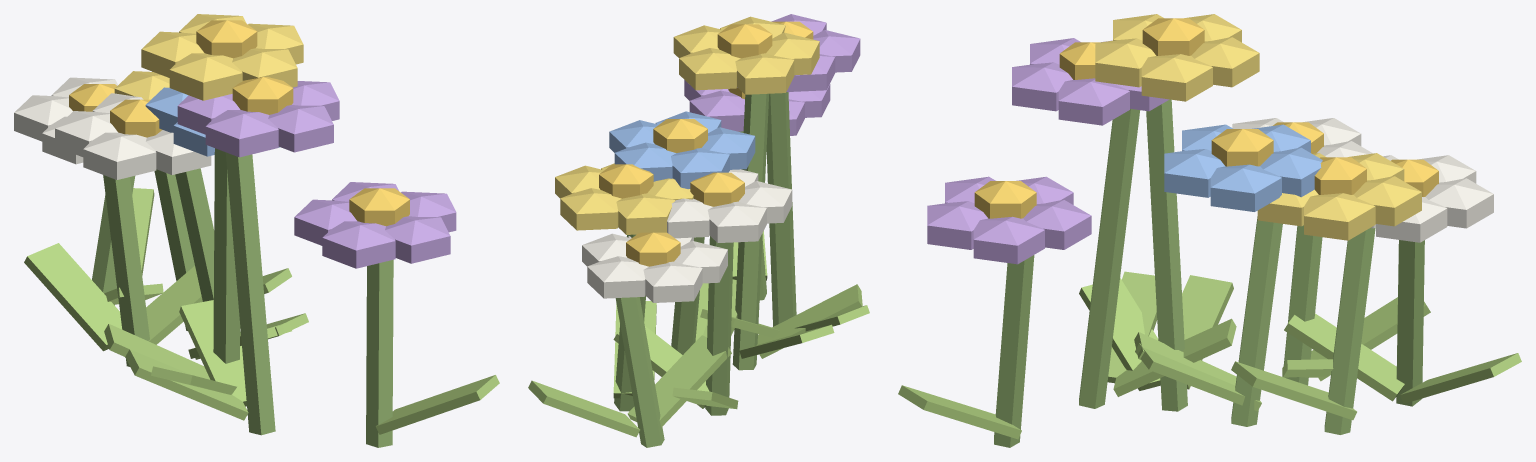
The model's file is flowers_mixed.glb.
The picture shows the model from 3 angles, left to right: view 1: azimuth 30°, elevation 25°; view 2: azimuth 150°, elevation 25°; view 3: azimuth 270°, elevation 25°; orthographic projection. The views are drawn at different scales.
Visible parts, largest first — view 1: flowers_mixed; view 2: flowers_mixed; view 3: flowers_mixed.
Part boxes in pixels (x1,y1,x2,y2): flowers_mixed: (14,14,499,447); flowers_mixed: (528,14,869,447); flowers_mixed: (898,14,1521,447).
Bounding box in the file's own units: 0.4816 × 0.6586 × 0.9577.
